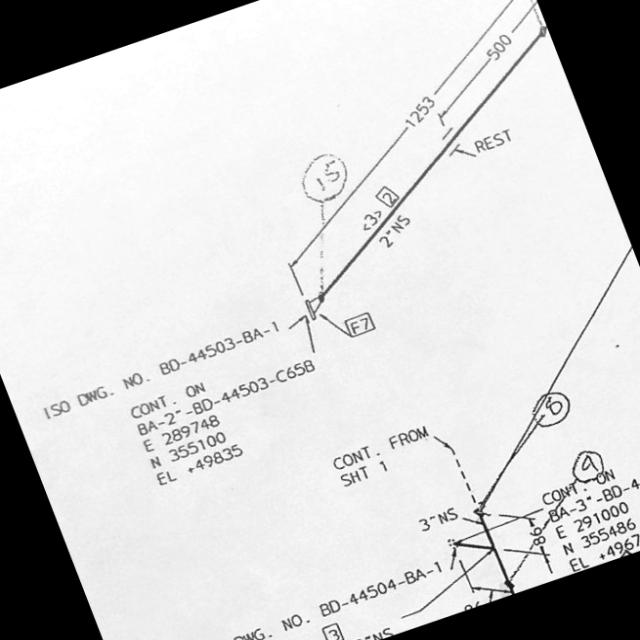Item number: (344, 308, 377, 339), (376, 184, 401, 208), (320, 621, 344, 639)
Measrement: (293, 0, 515, 268), (415, 501, 462, 539), (524, 513, 547, 558)
Symbol: (301, 290, 327, 325)
Weld number: (300, 147, 351, 207), (532, 389, 573, 433)
other: (40, 353, 321, 501), (215, 556, 450, 639), (540, 463, 639, 575), (330, 416, 436, 490)
